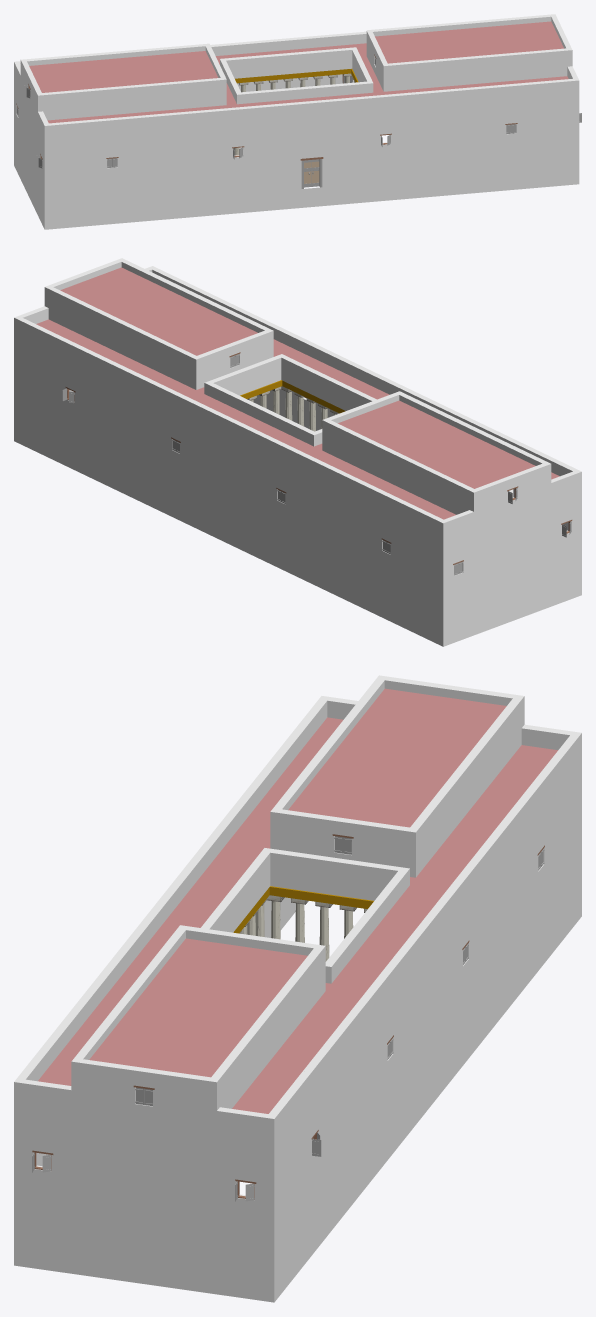
File: LOD_Block_1_17.glb
3 views of the same model, one above another, from view 1: azimuth 30°, elevation 25°; view 2: azimuth 150°, elevation 25°; view 3: azimuth 270°, elevation 25° (orthographic). The views are drawn at different scales.
Visible parts, largest first — view 1: _1.1473; view 2: _1.1473; view 3: _1.1473.
Part boxes in pixels (x1,y1,x2,y2): _1.1473: (14,14,581,229); _1.1473: (14,258,581,646); _1.1473: (14,675,581,1302).
Size of the model in its own units: 54.35 by 12.7 by 30.82.
21 materials, 2 textured.
